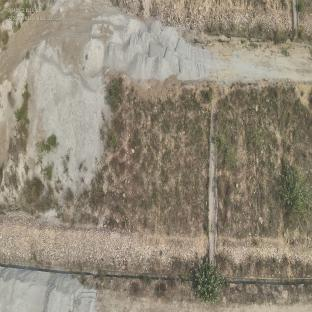rock_toe: (0, 221, 206, 273), (151, 3, 291, 36), (219, 238, 311, 276)
slope_drain: (209, 102, 219, 268)
toe_drain: (0, 258, 312, 287)
vegetation: (281, 170, 310, 215), (193, 268, 226, 302)
